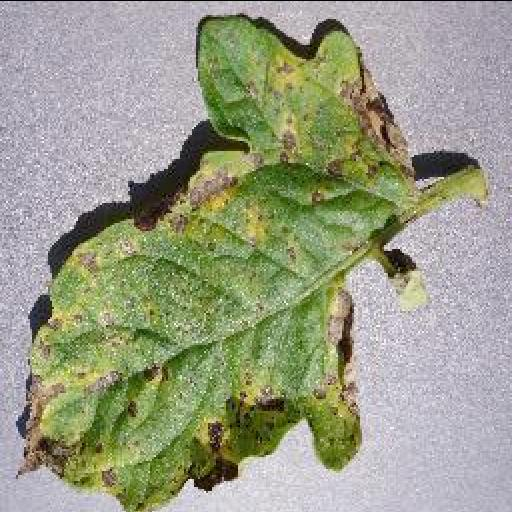disease_tomato: (12, 14, 416, 512)
